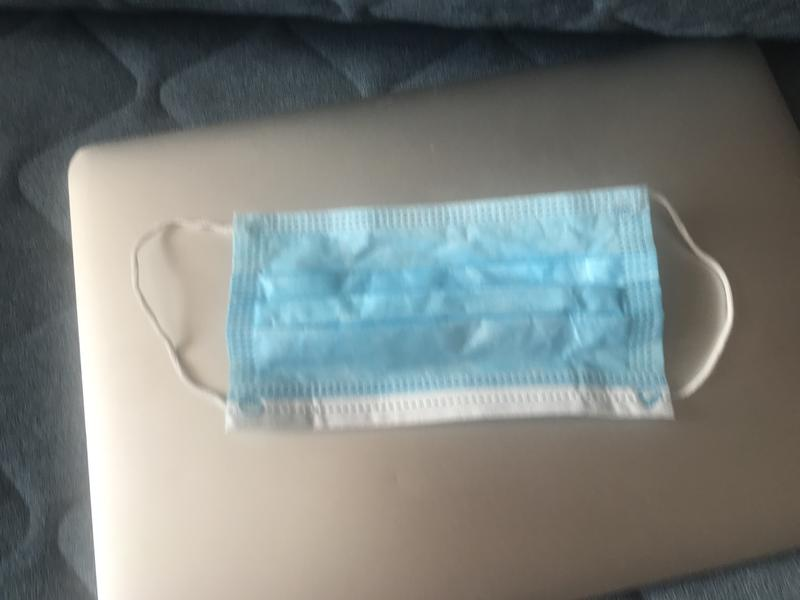medical_mask: (133, 184, 732, 433)
